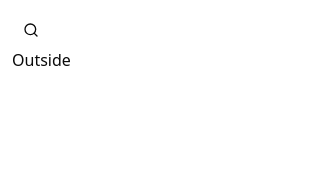
Test case: TaskSearchInput › collapses when clicking outside if no search query
Later steps or results of the test are not shown.
Click the element with test id "search-input-container": (31, 30) [23,22,39,38]
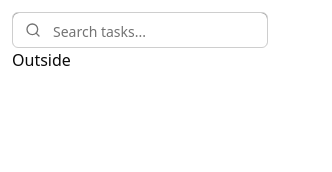
Result: the field with placeholder "Search tasks..." is shown at [13,13,267,48]
